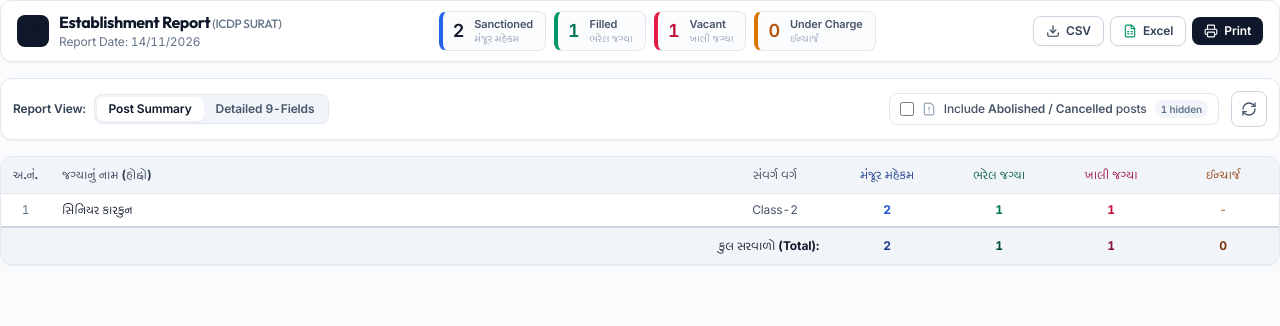
Scenario: OfficeReportView › labels a cancelled post "રદ" in the detailed form (it used to print "અબેયન્સ")
The image size is (1280, 326).
Click the button "Detailed 9-Fields" at (265, 109), box [204,97,326,121]
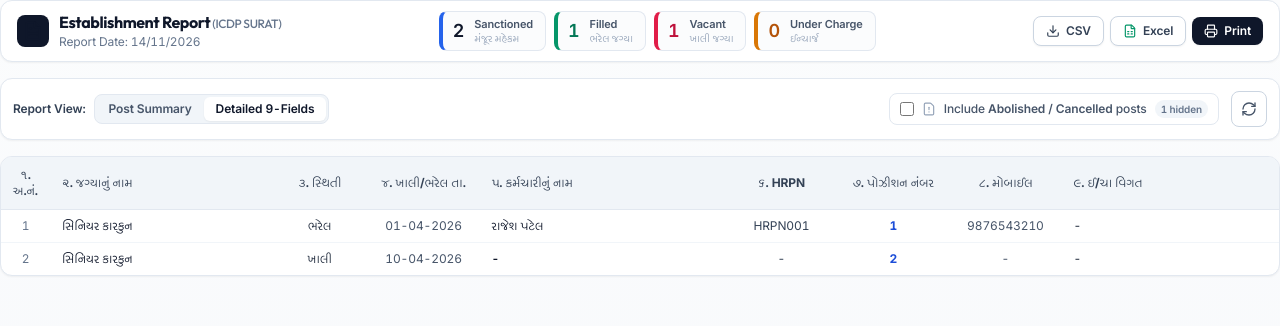
Click the checkbox at (907, 109), box [900,102,914,116]
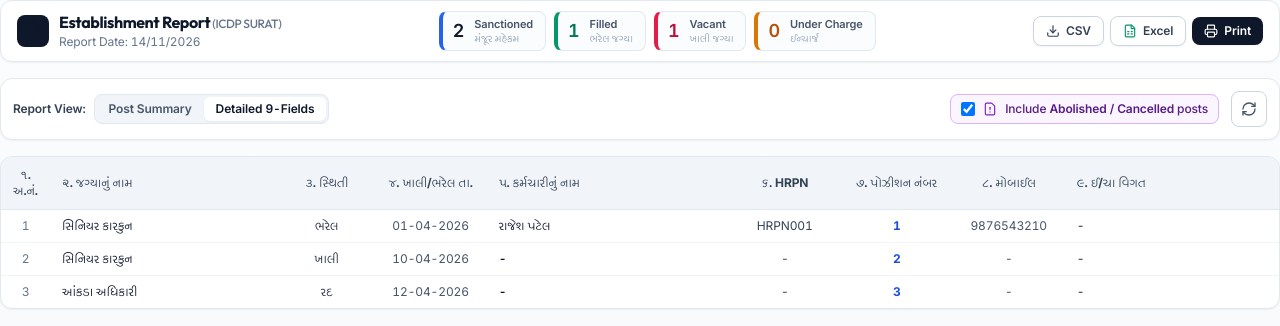
Result: the text "રદ" is shown at [321,284,332,299]
